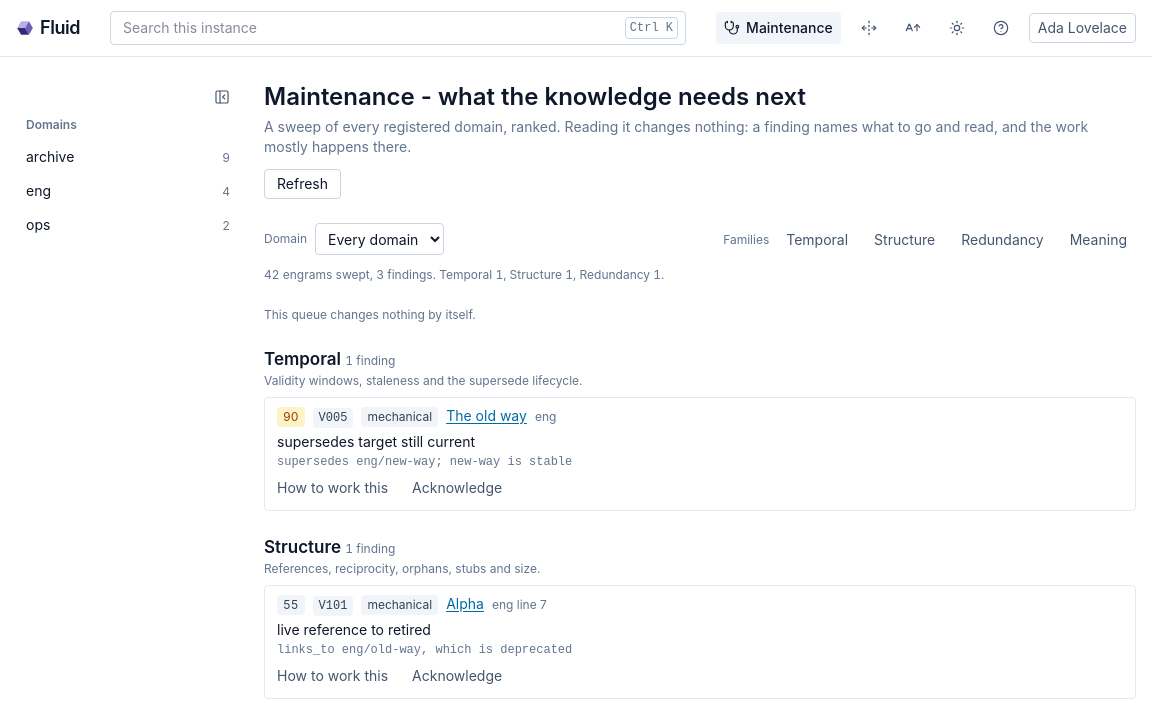
Test: acknowledging a finding › says the server's own words when an acknowledgment is refused
This screenshot has width=1152, height=720.
Expected: the heading "Maintenance - what the knowledge needs next" is shown, [264,82,806,111]
Click the button "Acknowledge" below "90" at (457, 488), box [404,474,510,502]
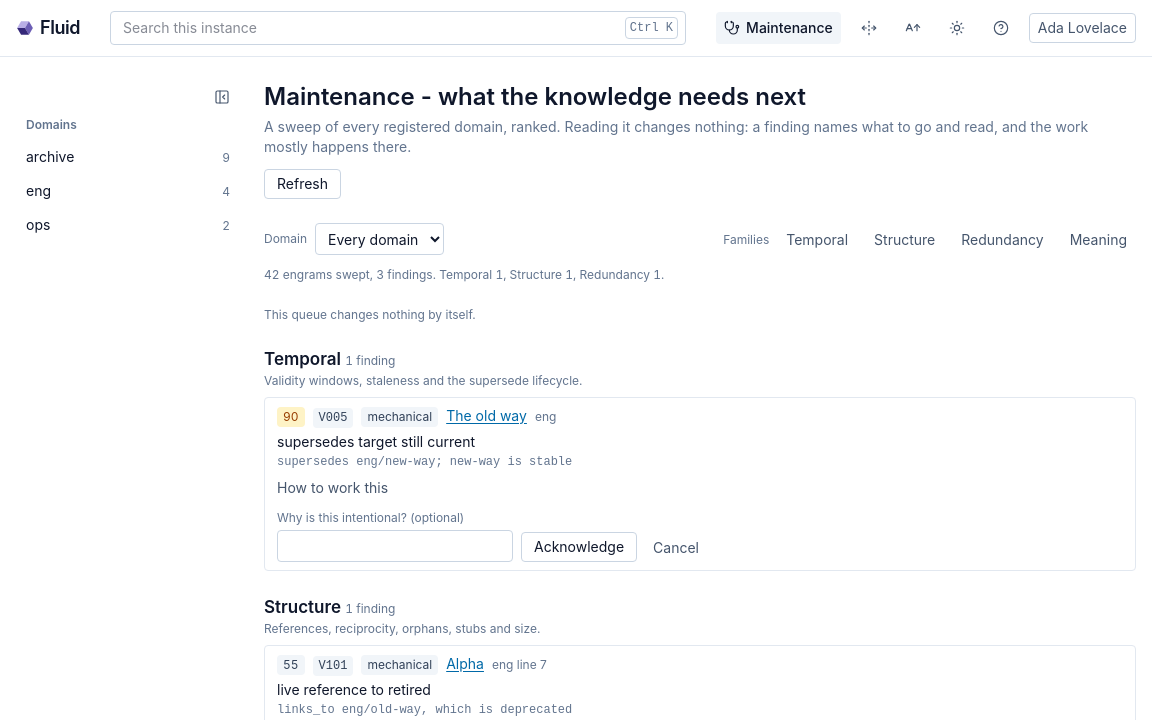
Click the button "Acknowledge" at (579, 547), box [521,532,637,562]
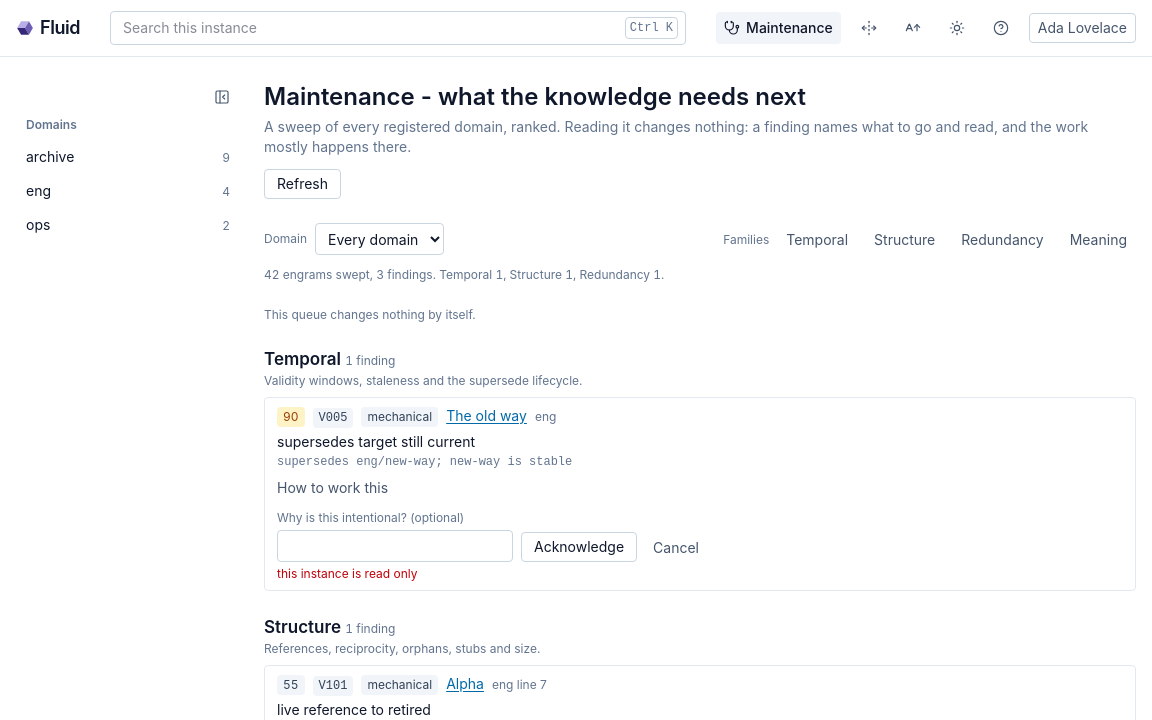
Result: the message reads "this instance is read only" at [277,566,418,581]
